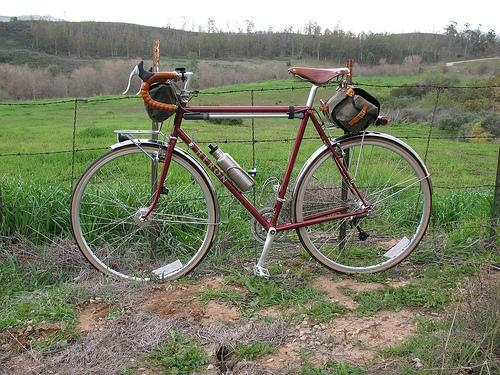car: (69, 60, 435, 285)
